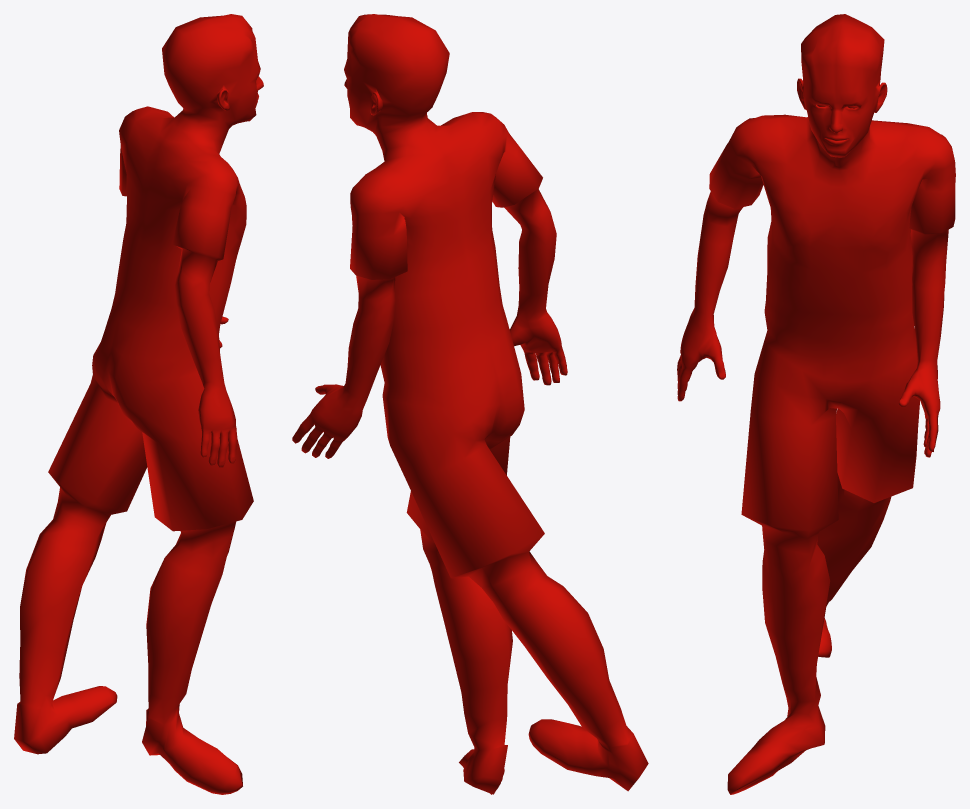
The model's file is player_000042.obj.
3 renders of one model, left to right at view 1: azimuth 30°, elevation 25°; view 2: azimuth 150°, elevation 25°; view 3: azimuth 270°, elevation 25°, orthographic. The views are drawn at different scales.
Visible parts, largest first — view 1: soccerplayer.002_mesh.003; view 2: soccerplayer.002_mesh.003; view 3: soccerplayer.002_mesh.003.
Part boxes in pixels (x1,y1,x2,y2): soccerplayer.002_mesh.003: (14, 14, 263, 794); soccerplayer.002_mesh.003: (292, 14, 648, 794); soccerplayer.002_mesh.003: (677, 14, 955, 794).
Bounding box in the file's own units: 1.13 × 3 × 0.9621.
